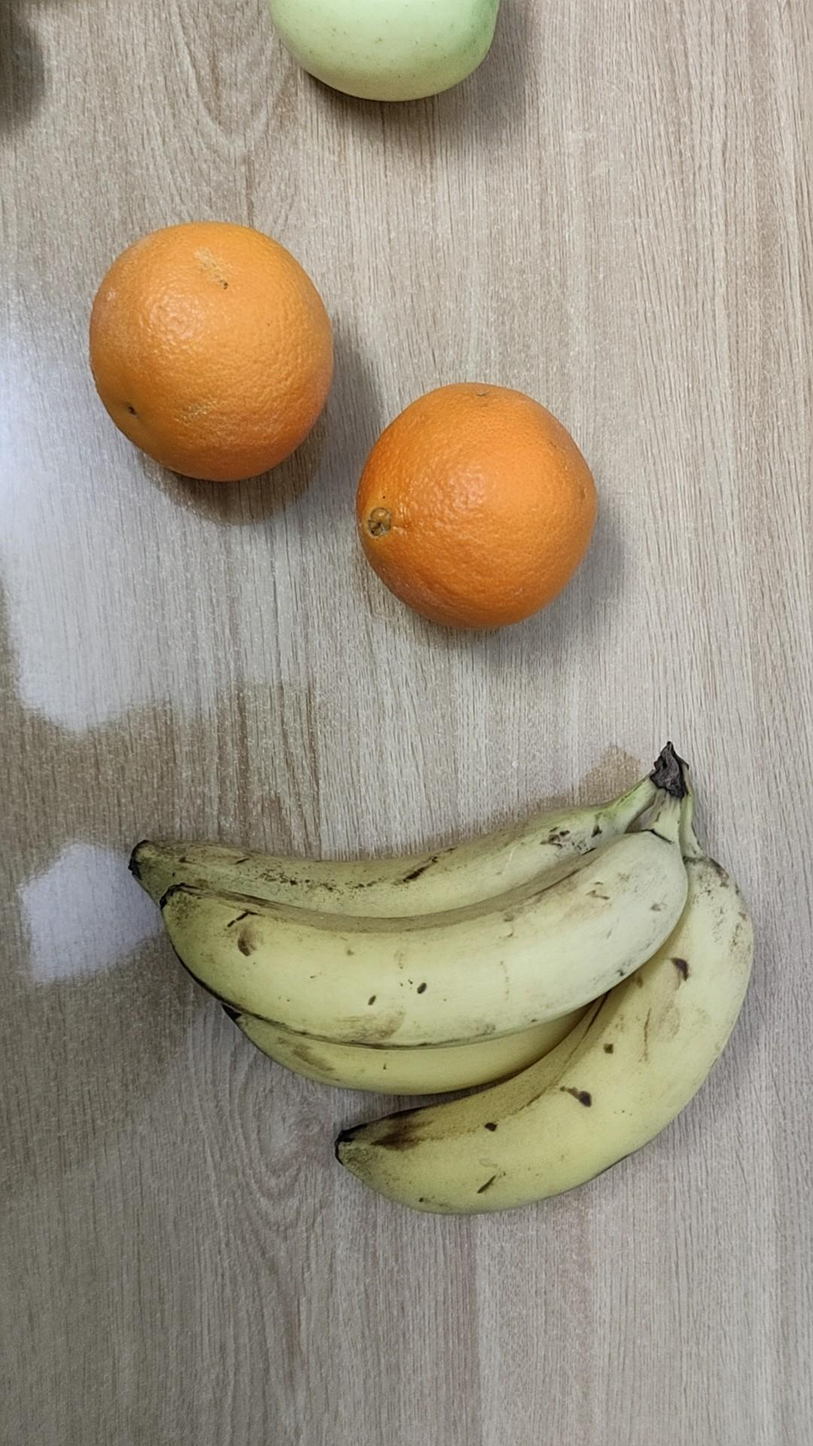fruit: (132, 744, 753, 1213), (90, 221, 333, 481), (357, 382, 596, 629), (272, 0, 498, 101)
